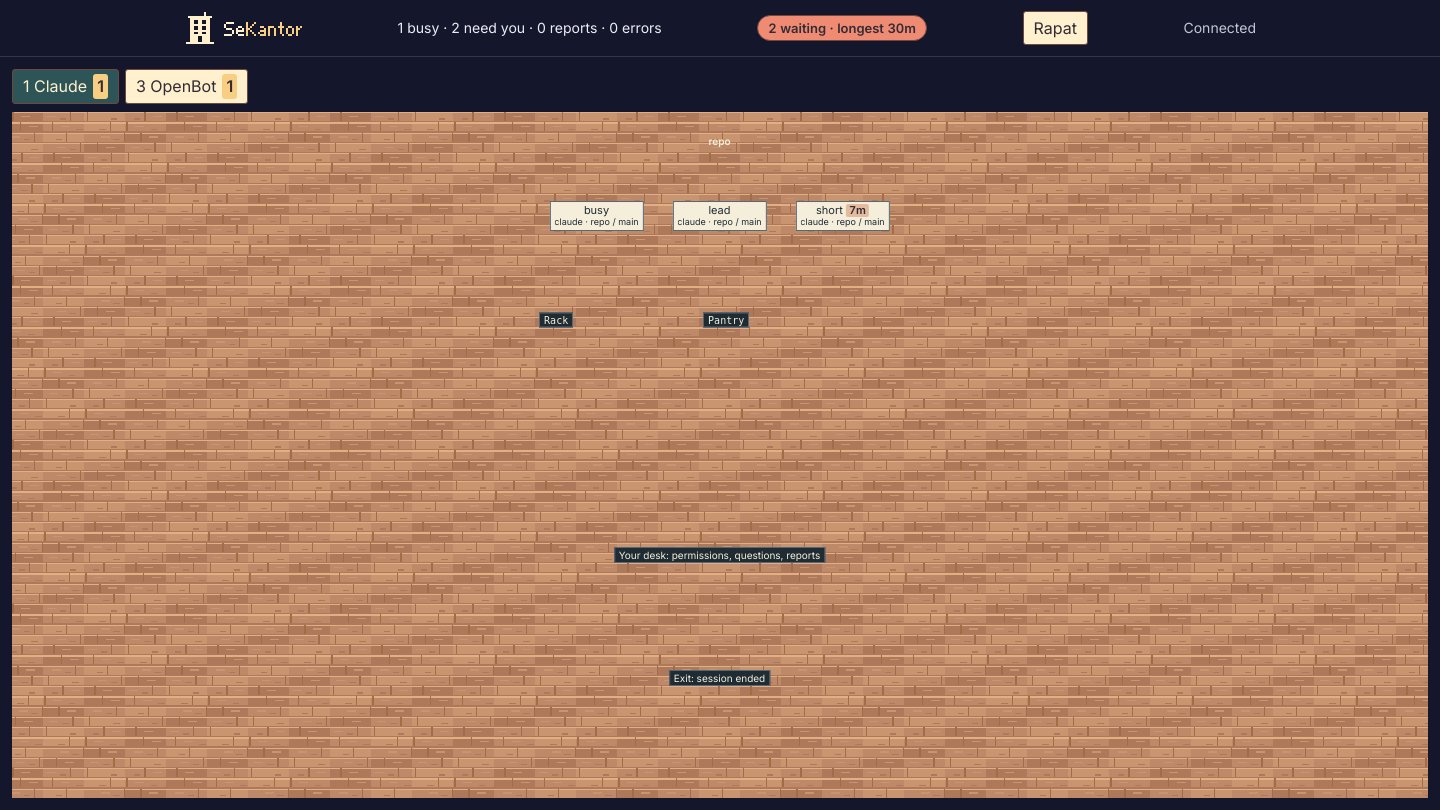
office page › shows the queue pill and opens the card of the longest waiter, also on another floor
The image size is (1440, 810).
Click the button "2 waiting · longest 30m" at coordinates (842, 28), box [757, 15, 927, 41]
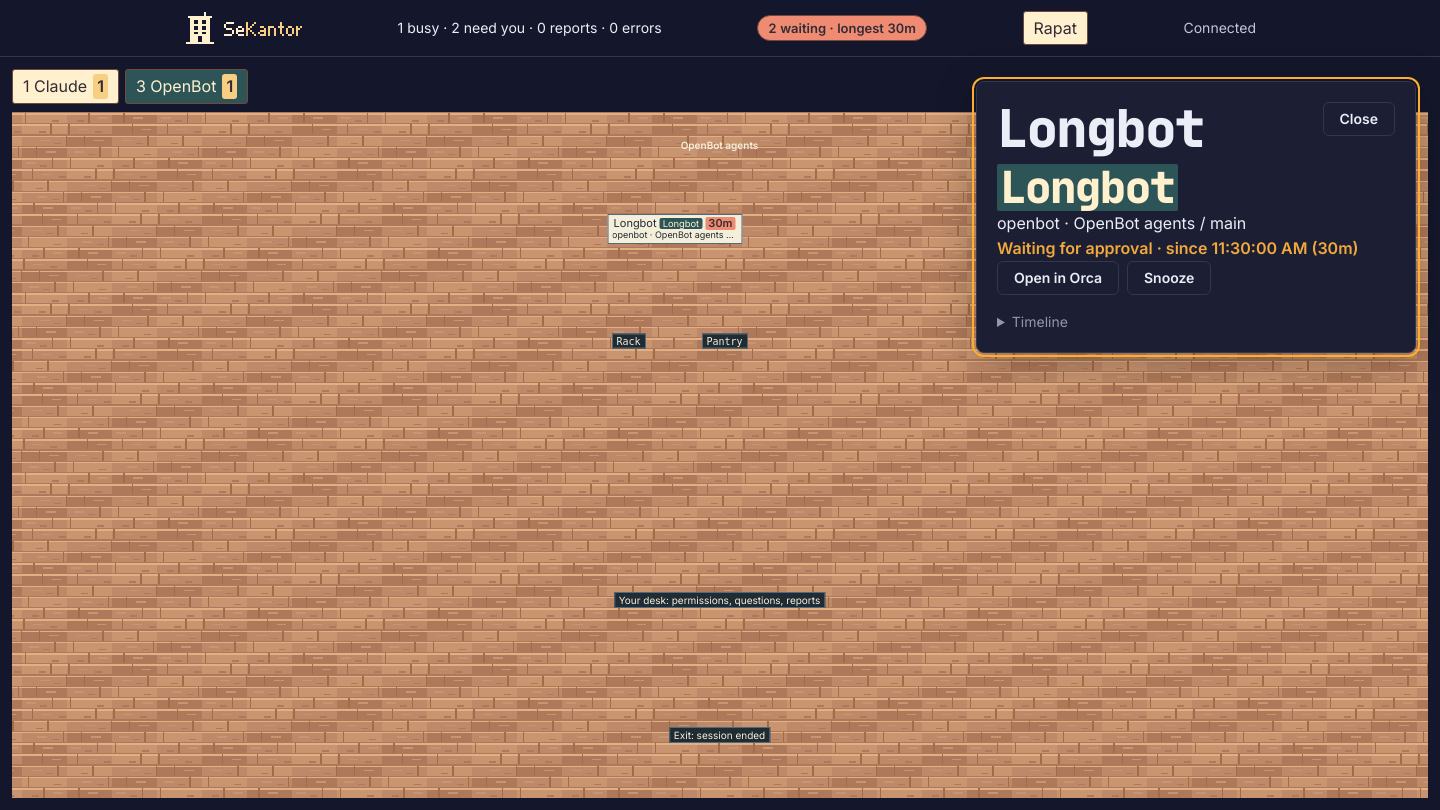
Expected: the button "3 OpenBot 1" is shown, [125, 69, 248, 104]
Result: the dialog named "Longbot details" is shown at [976, 81, 1416, 354]
